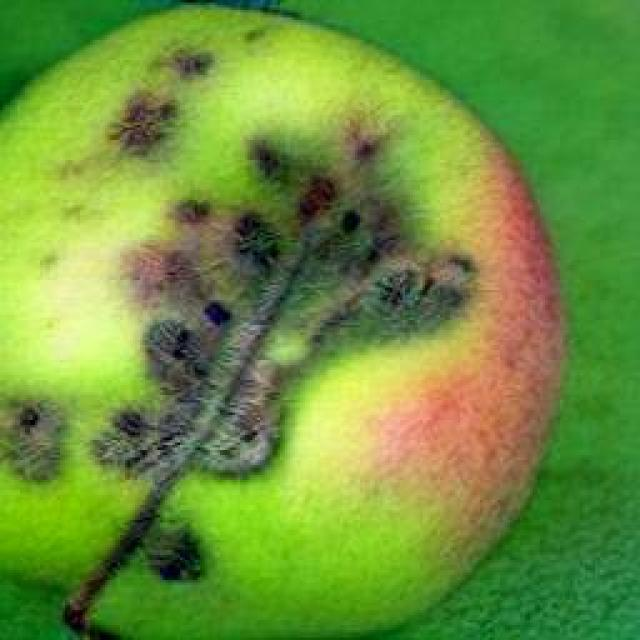defective: (0, 0, 565, 638)
